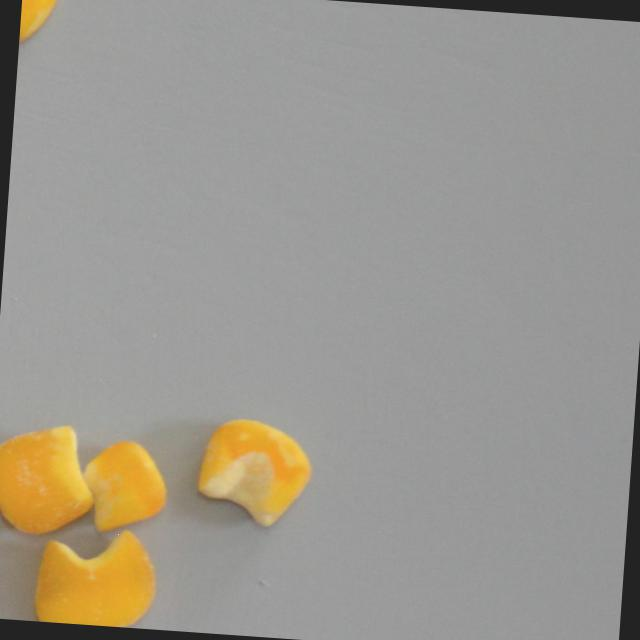dañado: (188, 411, 318, 535), (30, 519, 163, 629), (18, 0, 60, 51)
no_desgerminado: (74, 433, 176, 537)
pelicula: (0, 416, 100, 539)
